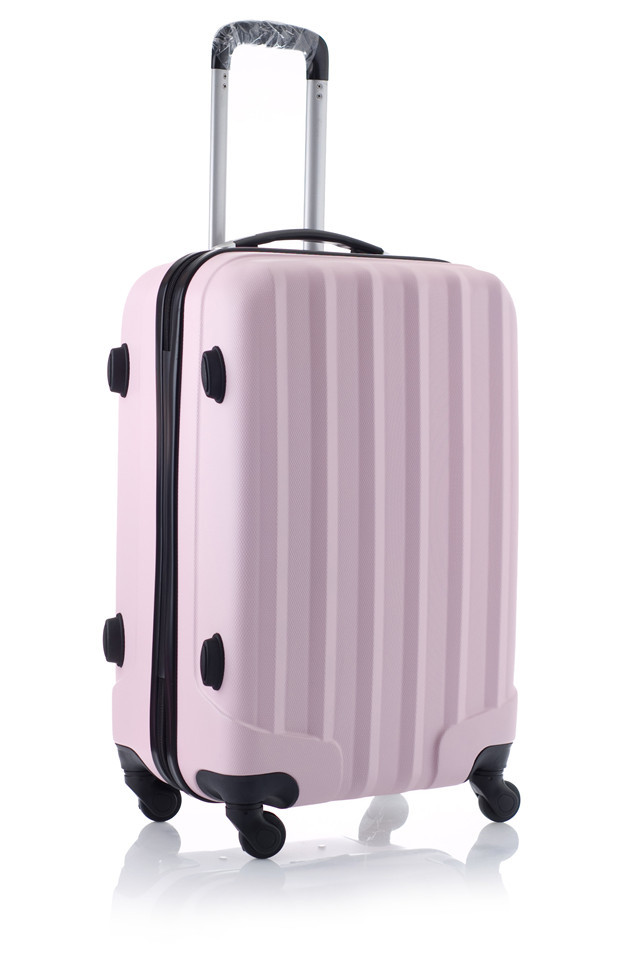luggage: (104, 21, 526, 860)
